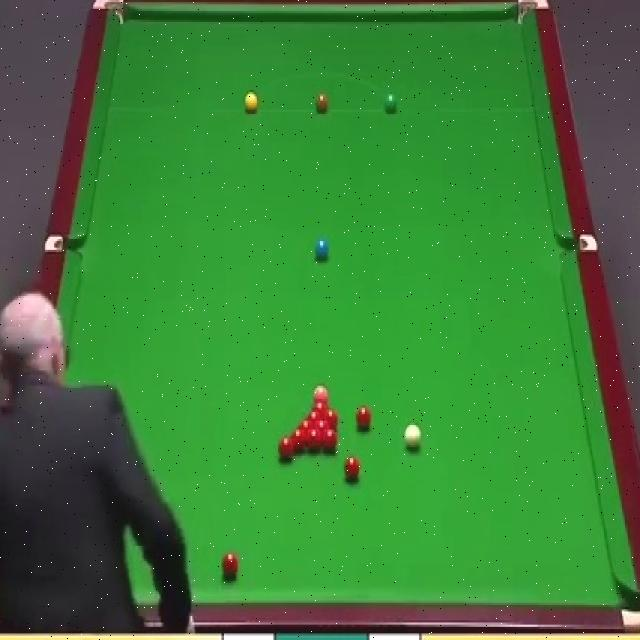blue-ball: (312, 237, 328, 261)
brown-ball: (316, 92, 330, 114)
green-ball: (383, 91, 397, 114)
pink-ball: (312, 384, 330, 399)
red-ball: (221, 553, 239, 582), (343, 456, 361, 483), (276, 437, 294, 463), (355, 405, 372, 432), (320, 428, 338, 452), (290, 429, 306, 454), (306, 427, 322, 452), (312, 417, 331, 432), (323, 409, 338, 427), (312, 399, 330, 413), (298, 419, 314, 432), (306, 410, 323, 421)
white-ball: (403, 422, 422, 449)
yellow-ball: (243, 90, 258, 112)
